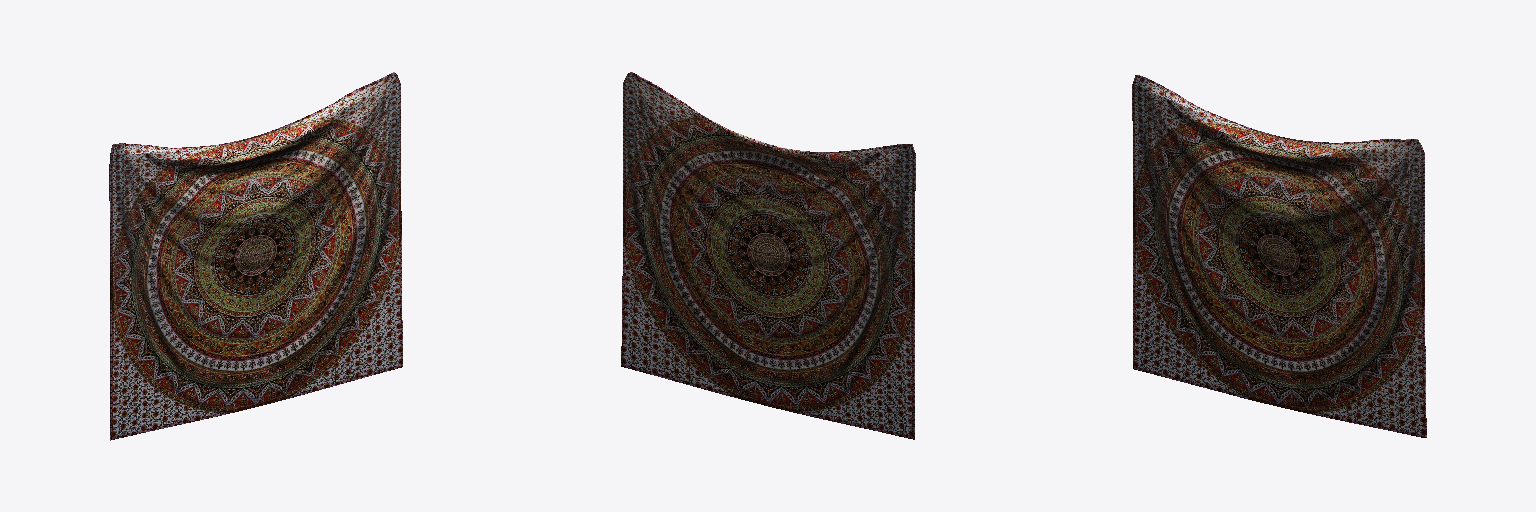
3 renders of one model, left to right at view 1: azimuth 30°, elevation 25°; view 2: azimuth 150°, elevation 25°; view 3: azimuth 330°, elevation 25°, orthographic.
Parts seen in each view (by area): view 1: 1-_; view 2: 1-_; view 3: 1-_.
Boxes of the visible parts, <box> form: 1-_: <box>109,72,402,440</box>; 1-_: <box>621,72,915,439</box>; 1-_: <box>1132,75,1426,437</box>.
Bounding box in the file's own units: 120 × 118 × 7.79.
1 materials, 1 textured.